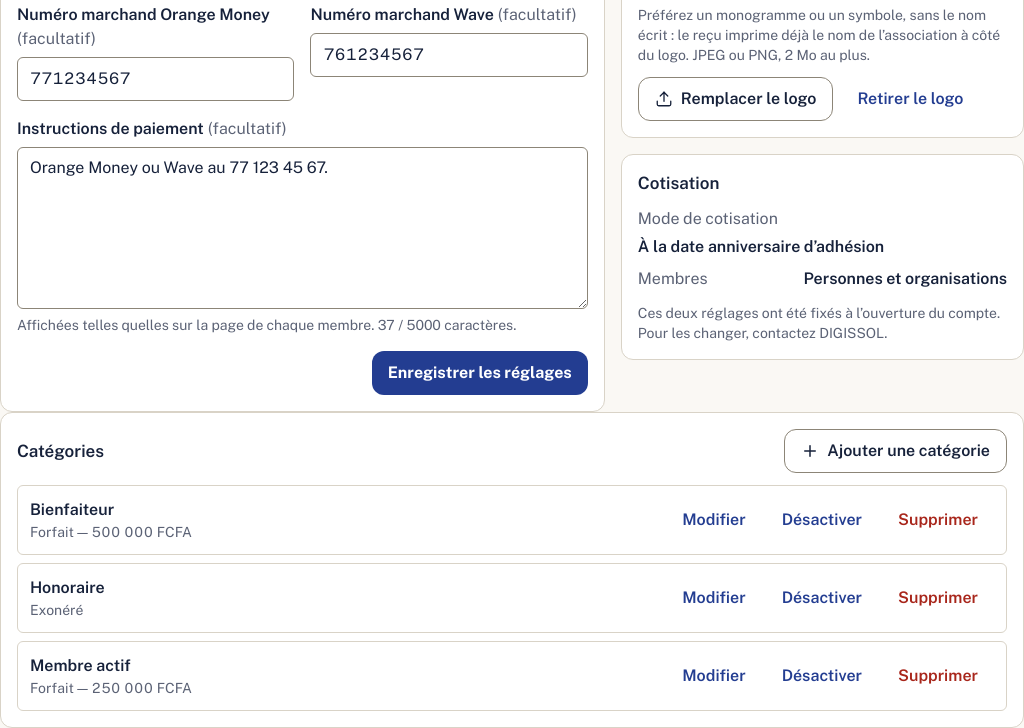
Test case: B11 — les catégories › une suppression refusée propose aussitôt « Désactiver à la place », chiffres à l’appui
(page scrolled)
Click the button "Supprimer" in the row of "Membre actif".
click(938, 676)  # box left=882, top=654, right=994, bottom=698
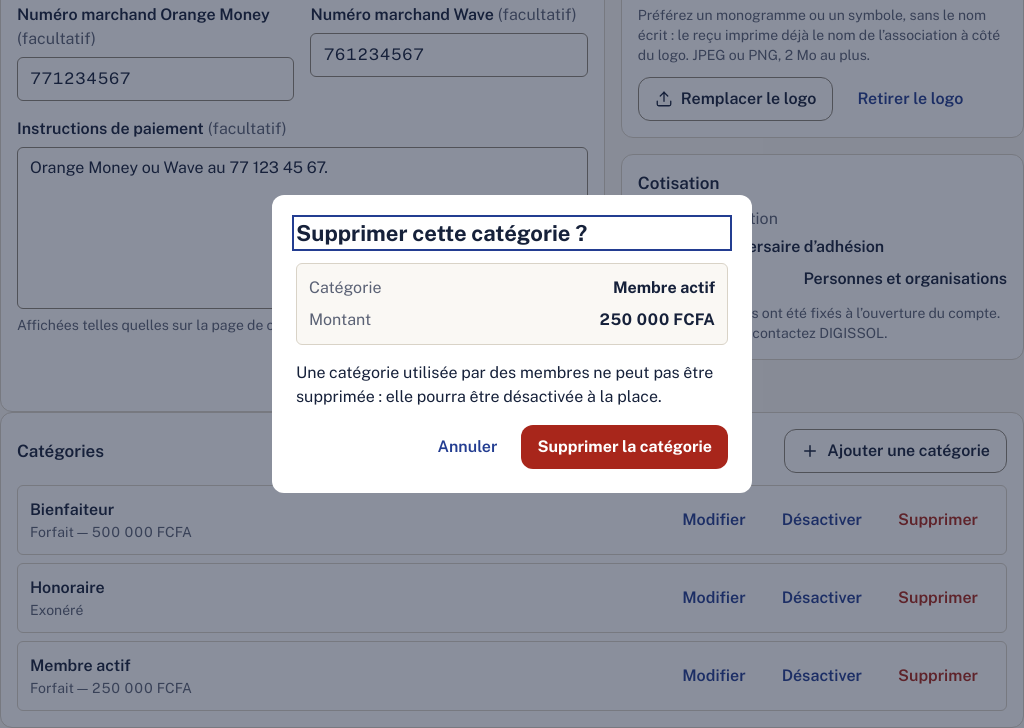
Click the button "Supprimer la catégorie".
click(625, 447)  # box left=521, top=425, right=728, bottom=469
(page scrolled)
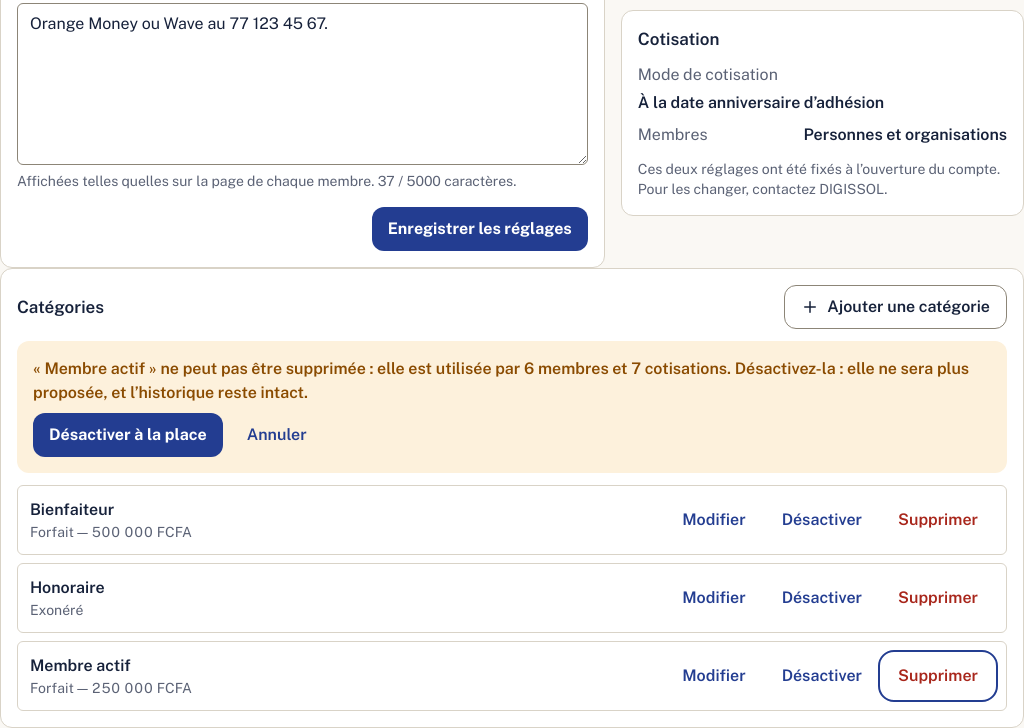
Check: the text "utilisée par 6 membres et 7 cotisations" is shown, box left=33, top=357, right=991, bottom=405
Click the button "Désactiver à la place".
click(128, 435)  # box left=33, top=413, right=223, bottom=457
(page scrolled)
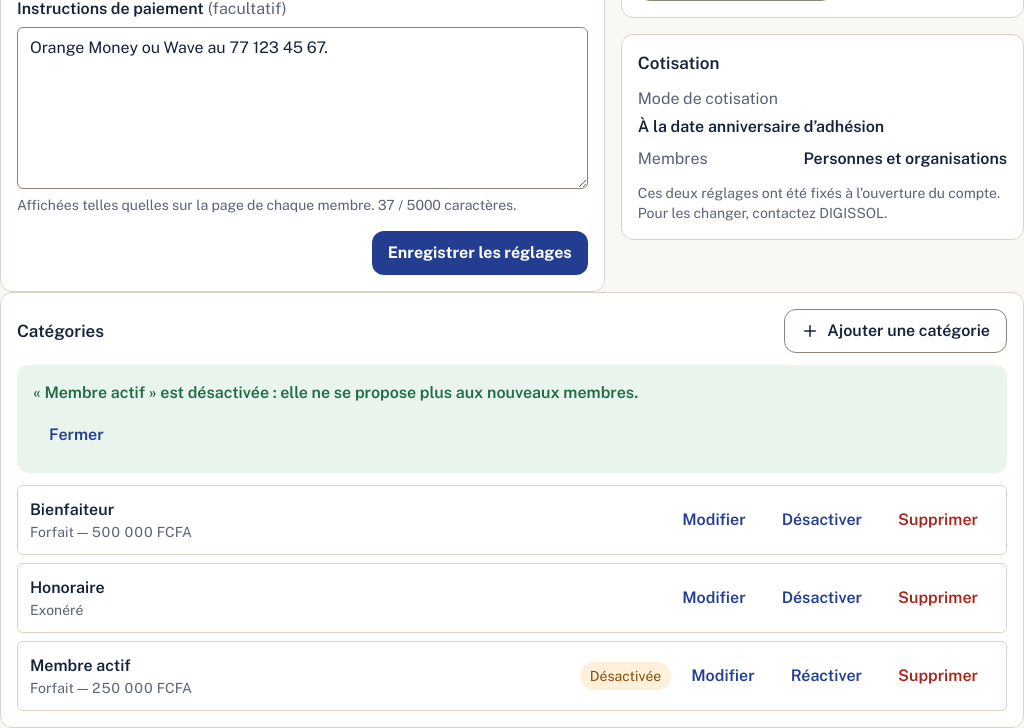
Check: the text "est désactivée" is shown, box left=33, top=383, right=638, bottom=402
Check: the text "Désactivée" is shown, box left=580, top=662, right=671, bottom=690
